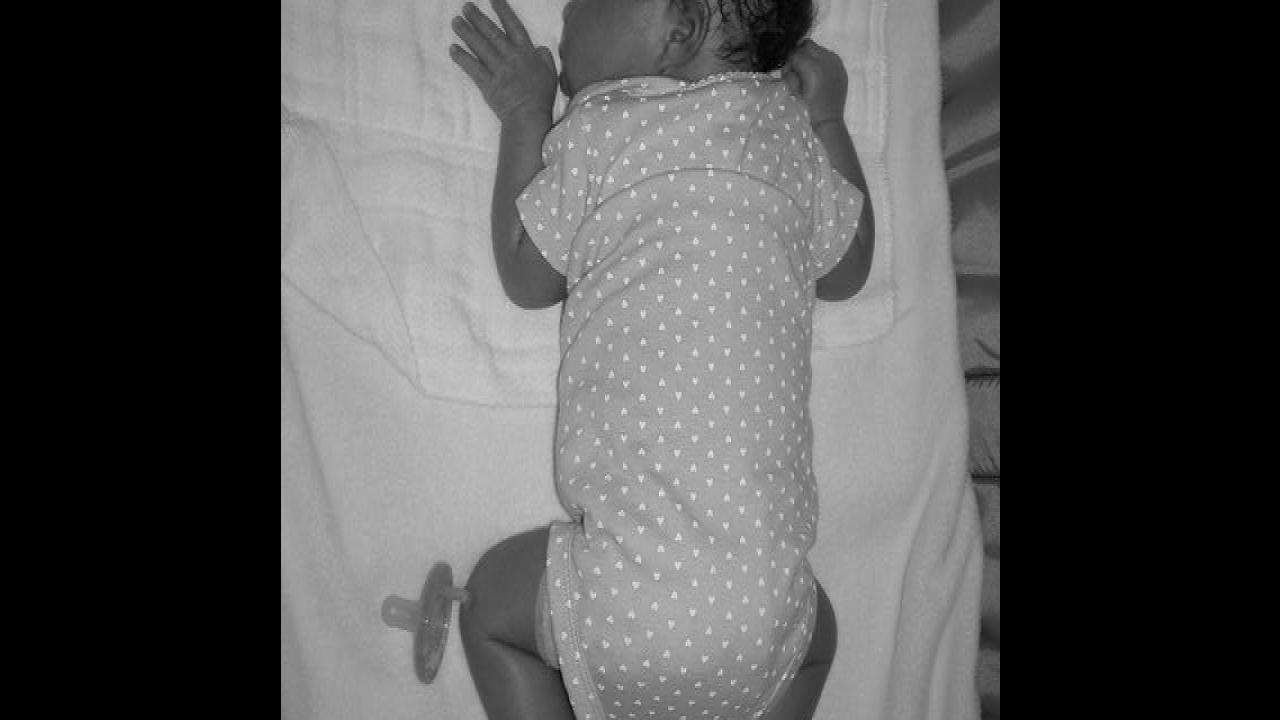hand: (449, 0, 554, 125), (782, 42, 858, 130)
